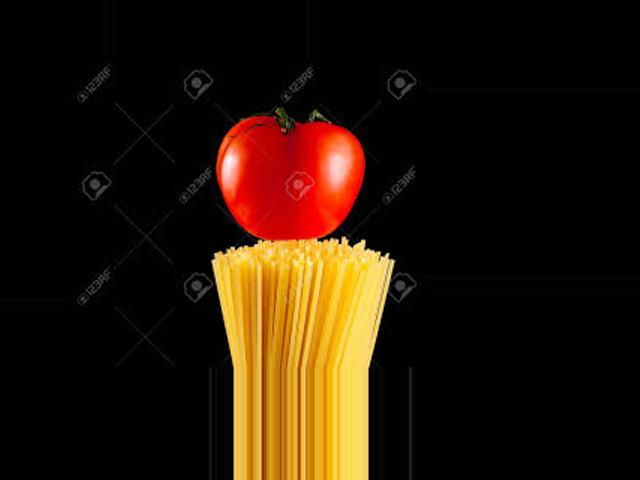tomato: (218, 115, 364, 241)
